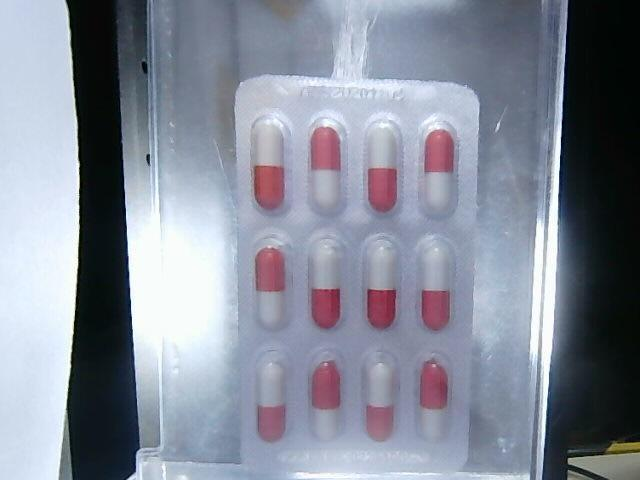Light Front: (231, 75, 479, 470)
Pill Front: (247, 116, 290, 213), (360, 237, 403, 332), (308, 238, 348, 330), (250, 244, 291, 329), (309, 121, 346, 213), (364, 123, 401, 215), (308, 361, 345, 446), (363, 361, 397, 448), (421, 244, 456, 328), (255, 359, 289, 444), (426, 124, 456, 217), (417, 356, 447, 449)
